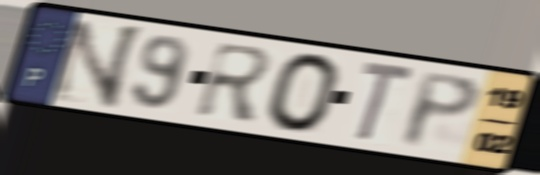9: (130, 33, 191, 113)
N: (45, 19, 148, 111)
O: (264, 51, 344, 135)
P: (399, 69, 484, 152)
R: (192, 39, 278, 125)
T: (352, 57, 419, 145)
